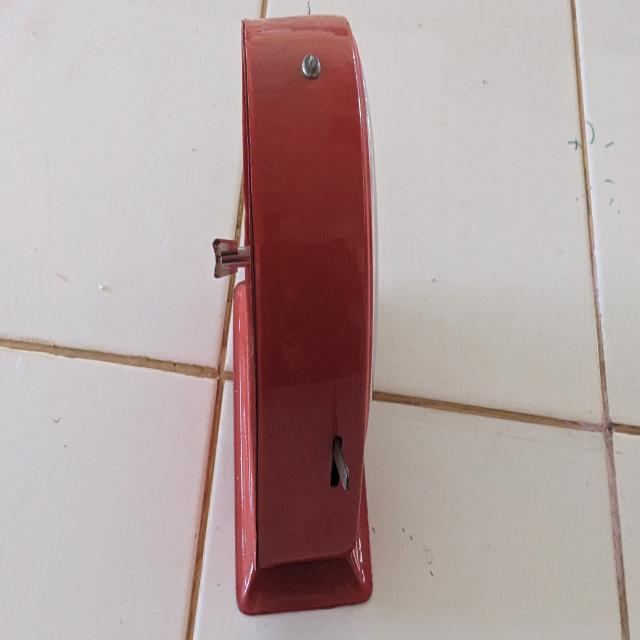Analog Stopwatch: (216, 0, 385, 625)
